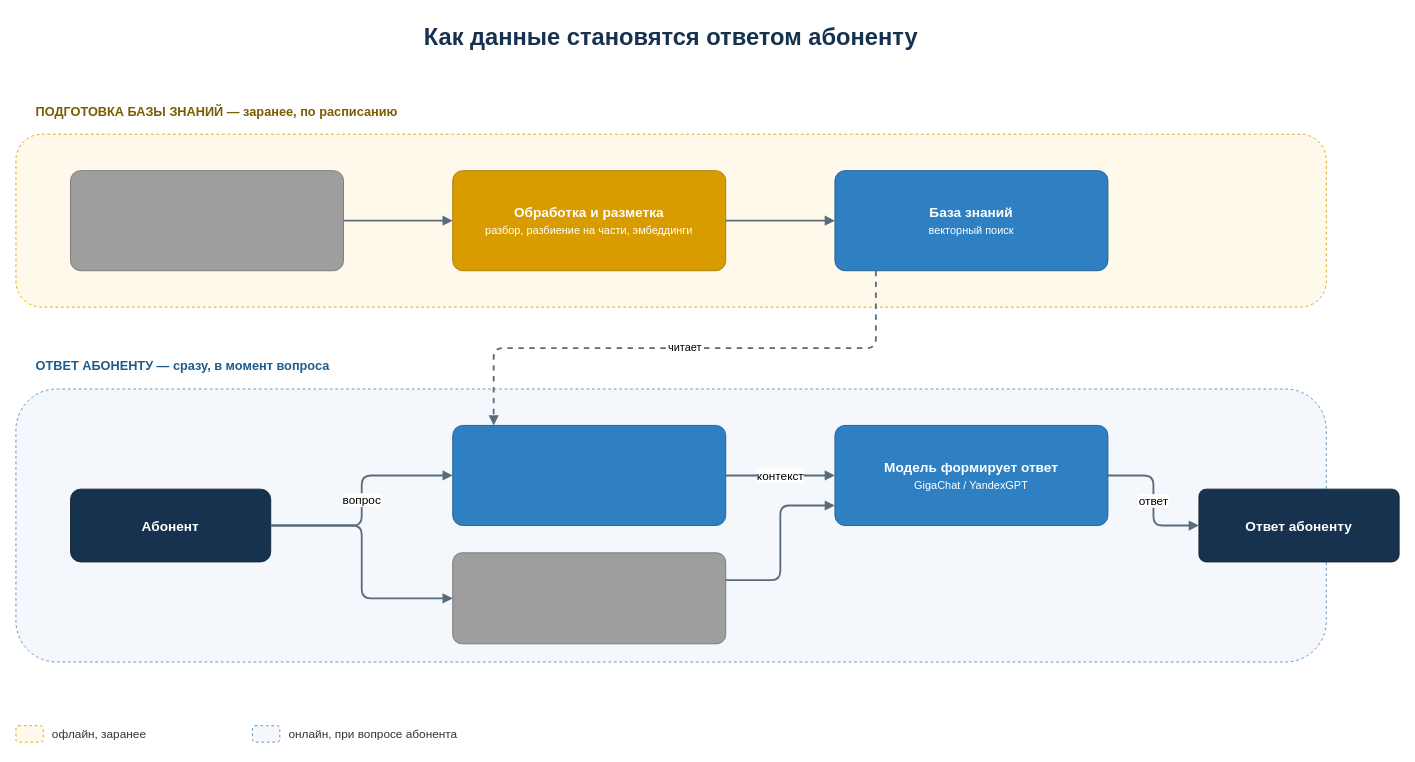
The diagram is 1415 pixels wide and 762 high, and some of its shapes have lost their labels. The box of each missing label's shape, as (x1, y1, x2, y2) in pixels:
Биллинг · Диспетчерская текущие факты — в реальном времени: (452, 552, 726, 644)
Документы водоканала инструкции, договоры, FAQ: (70, 170, 344, 271)
Поиск в базе знаний находит нужные фрагменты: (452, 425, 726, 526)
